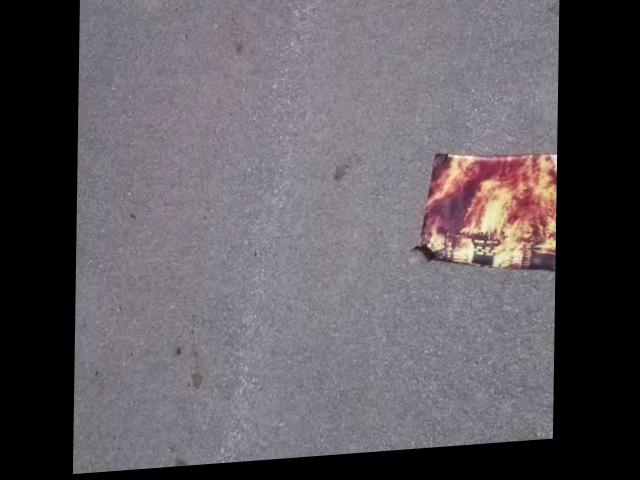fire-poster: (412, 149, 557, 291)
